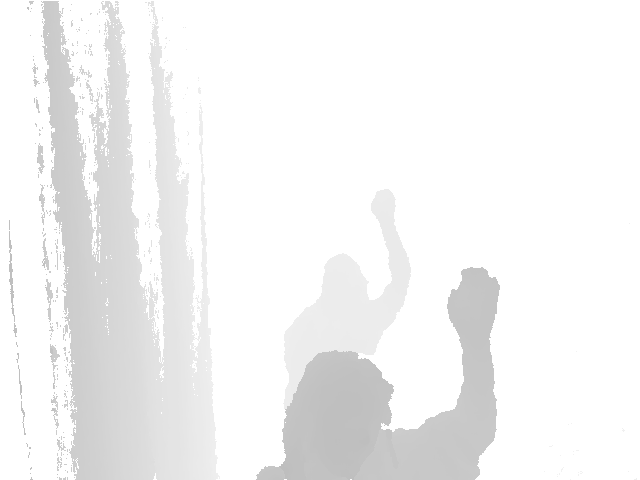hand: (446, 266, 500, 341), (369, 190, 395, 222)
head: (284, 351, 392, 476), (319, 252, 369, 307)
person: (253, 266, 501, 480), (279, 190, 412, 415)
